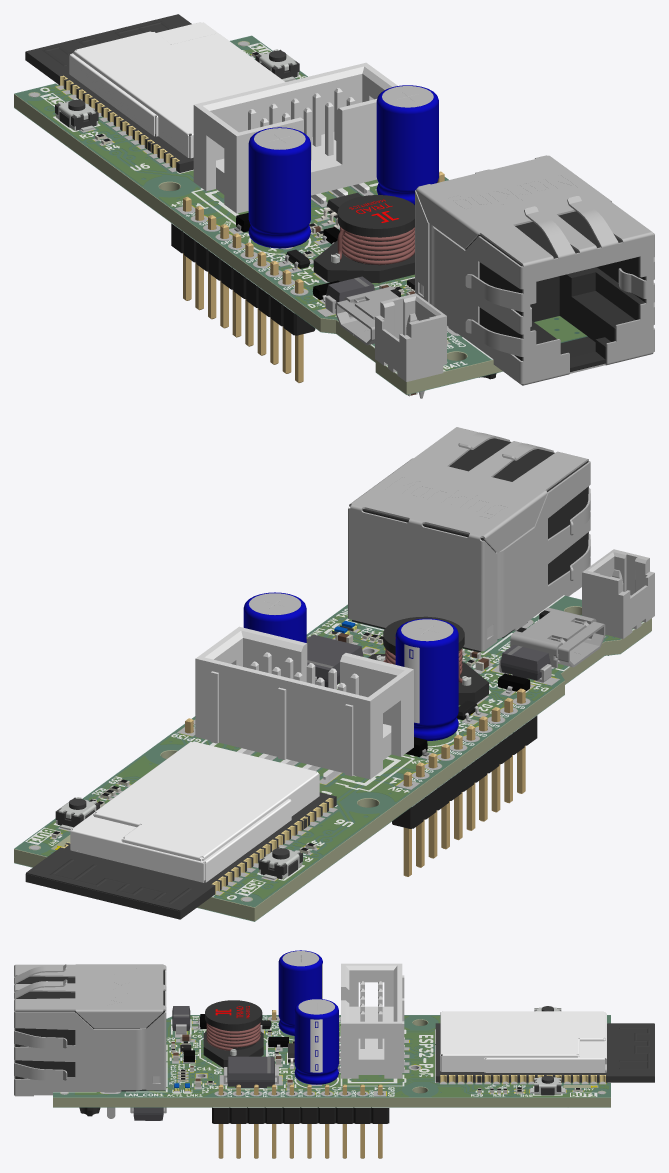
Rendered from board.glb.
3 views of the same model, one above another, from view 1: azimuth 30°, elevation 25°; view 2: azimuth 150°, elevation 25°; view 3: azimuth 270°, elevation 25° (orthographic). The views are drawn at different scales.
Visible parts, largest first — view 1: shielding, ESP32-WROVER-I, CH87 BASE_10, User Library-Cap electro 6.3x11x2.5mm (×2), board_soldermask (×2), board_PCB, insulator, PinHeader_1x10_P254mm_Vertical, Triad Magnetics-AX97-103R3, Molex_PicoBlade_530470210, board_copper, ESP32-WROOM-32D (+6 smaller); view 2: shielding, ESP32-WROVER-I, CH87 BASE_10, board_soldermask, board_PCB, User Library-Cap electro 6.3x11x2.5mm (×2), PinHeader_1x10_P254mm_Vertical, ESP32-WROOM-32D, Molex_PicoBlade_530470210, board_copper, insulator, USB-UART1 (+6 smaller); view 3: shielding, ESP32-WROVER-I, board_soldermask (×2), board_PCB, CH87 BASE_10, User Library-Cap electro 6.3x11x2.5mm (×2), PinHeader_1x10_P254mm_Vertical, Triad Magnetics-AX97-103R3, board_silkscreen, ESP32-WROOM-32D, board_copper, insulator (+4 smaller).
Part boxes in pixels (x1=…): shielding: x1=415, y1=155, x2=654, y2=385; ESP32-WROVER-I: x1=25, y1=14, x2=285, y2=172; CH87 BASE_10: x1=193, y1=62, x2=397, y2=213; User Library-Cap electro 6.3x11x2.5mm (×2): x1=248, y1=85, x2=438, y2=248; board_soldermask (×2): x1=14, y1=35, x2=587, y2=394; board_PCB: x1=14, y1=36, x2=502, y2=394; insulator: x1=465, y1=211, x2=645, y2=379; PinHeader_1x10_P254mm_Vertical: x1=171, y1=196, x2=315, y2=382; Triad Magnetics-AX97-103R3: x1=313, y1=195, x2=414, y2=283; Molex_PicoBlade_530470210: x1=375, y1=293, x2=446, y2=398; board_copper: x1=28, y1=44, x2=585, y2=369; ESP32-WROOM-32D: x1=25, y1=22, x2=218, y2=151; shielding: x1=348, y1=427, x2=590, y2=651; ESP32-WROVER-I: x1=26, y1=741, x2=336, y2=918; CH87 BASE_10: x1=195, y1=626, x2=413, y2=779; board_soldermask: x1=14, y1=595, x2=643, y2=907; board_PCB: x1=14, y1=596, x2=651, y2=921; User Library-Cap electro 6.3x11x2.5mm (×2): x1=243, y1=592, x2=458, y2=740; PinHeader_1x10_P254mm_Vertical: x1=392, y1=688, x2=537, y2=876; ESP32-WROOM-32D: x1=25, y1=798, x2=306, y2=919; Molex_PicoBlade_530470210: x1=582, y1=549, x2=654, y2=655; board_copper: x1=28, y1=615, x2=618, y2=899; insulator: x1=352, y1=438, x2=588, y2=652; USB-UART1: x1=510, y1=607, x2=605, y2=667; shielding: x1=14, y1=964, x2=166, y2=1118; ESP32-WROVER-I: x1=435, y1=1011, x2=654, y2=1082; board_soldermask (×2): x1=53, y1=1015, x2=610, y2=1107; board_PCB: x1=53, y1=1016, x2=610, y2=1107; CH87 BASE_10: x1=341, y1=963, x2=404, y2=1078; User Library-Cap electro 6.3x11x2.5mm (×2): x1=278, y1=950, x2=338, y2=1084; PinHeader_1x10_P254mm_Vertical: x1=212, y1=1084, x2=389, y2=1158; Triad Magnetics-AX97-103R3: x1=203, y1=1000, x2=263, y2=1067; board_silkscreen: x1=53, y1=1015, x2=610, y2=1096; ESP32-WROOM-32D: x1=477, y1=1013, x2=654, y2=1082; board_copper: x1=75, y1=1016, x2=608, y2=1096; insulator: x1=15, y1=970, x2=164, y2=1116.
Bounding box in the file's own units: 0.0285 × 0.0253 × 0.0919.
